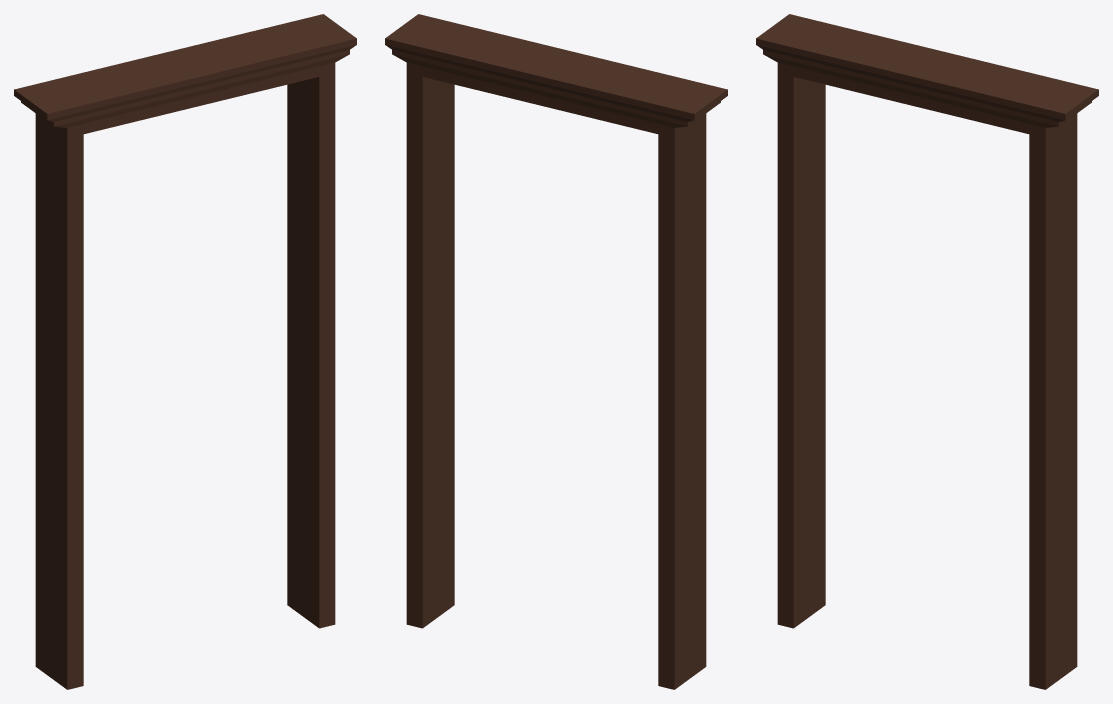
The model's file is Frame.gltf.
The picture shows the model from 3 angles, left to right: view 1: azimuth 30°, elevation 25°; view 2: azimuth 150°, elevation 25°; view 3: azimuth 330°, elevation 25°; orthographic projection.
Parts seen in each view (by area): view 1: DoorFrame; view 2: DoorFrame; view 3: DoorFrame.
Part boxes in pixels (<box>): DoorFrame: <box>14,14,356,689</box>; DoorFrame: <box>385,14,727,689</box>; DoorFrame: <box>756,14,1098,689</box>.
Bounding box in the file's own units: 1.75 × 3.14 × 0.3272.
